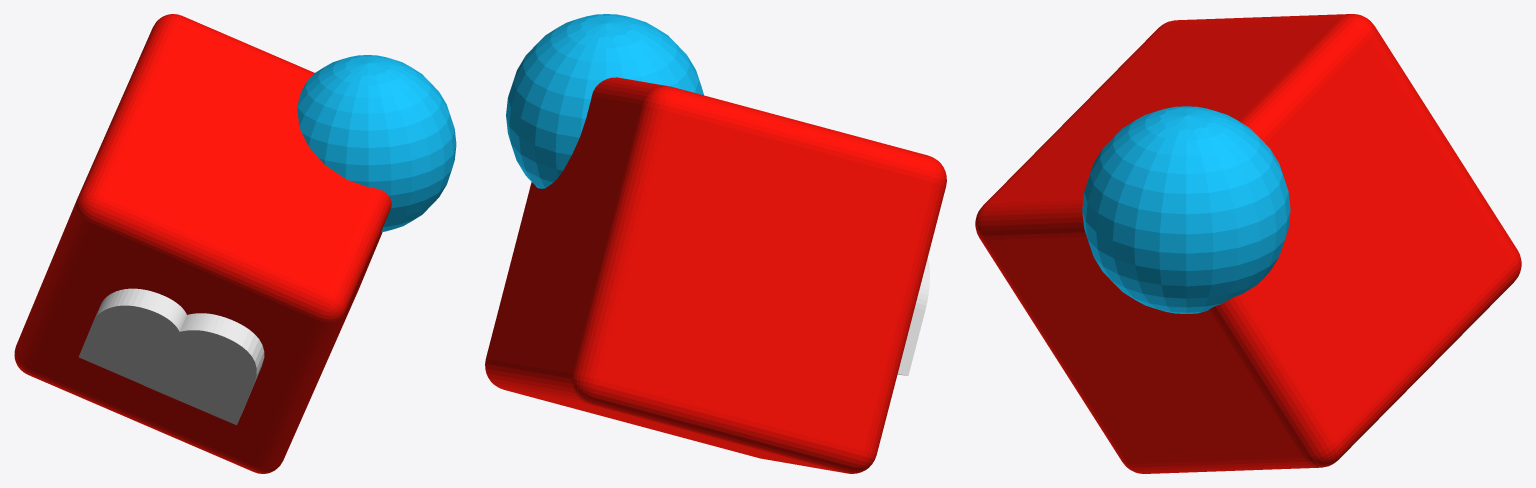
File: Mercari.fbx
3 renders of one model, left to right at view 1: azimuth 30°, elevation 25°; view 2: azimuth 150°, elevation 25°; view 3: azimuth 270°, elevation 25°, orthographic. The views are drawn at different scales.
Parts seen in each view (by area): view 1: MercariBox, MercariBall, MercariLogo; view 2: MercariBox, MercariBall, MercariLogo; view 3: MercariBox, MercariBall.
Part boxes in pixels (x1,y1,x2,y2): MercariBox: [14, 14, 391, 473]; MercariBall: [297, 55, 456, 232]; MercariLogo: [79, 288, 264, 425]; MercariBox: [485, 77, 946, 473]; MercariBall: [506, 14, 703, 188]; MercariLogo: [897, 259, 929, 375]; MercariBox: [975, 14, 1521, 473]; MercariBall: [1082, 106, 1290, 313].
Size of the model in its own units: 1.05 by 1.06 by 1.16.
